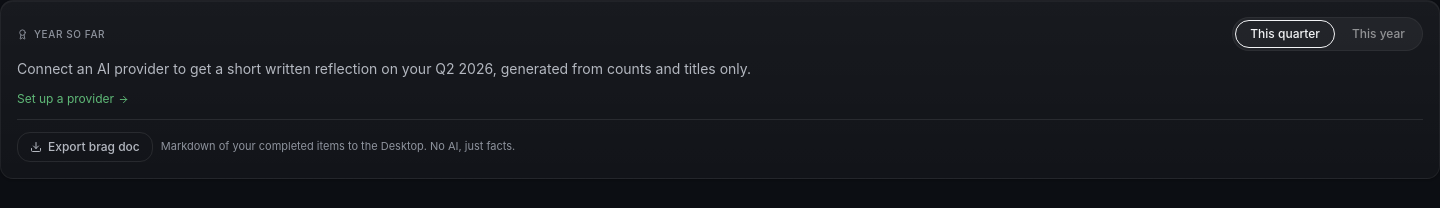
Test case: PeriodCard › switching the picker to This year requests the year period
Click the button "This year".
click(1378, 34)  # box [1337, 20, 1420, 48]
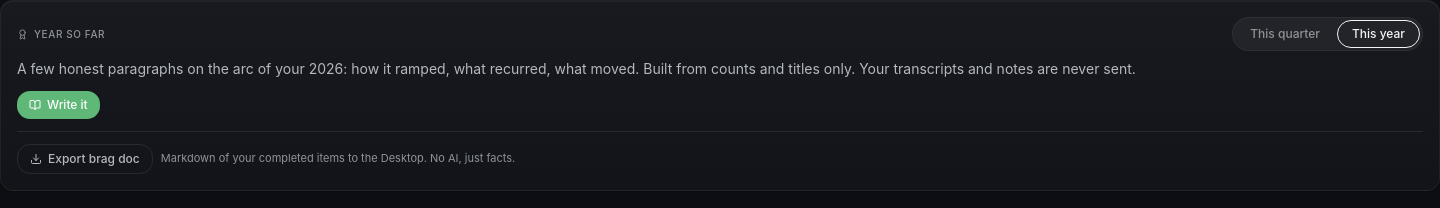
Result: the text "arc of your 2026" is shown at [17, 60, 1136, 77]
